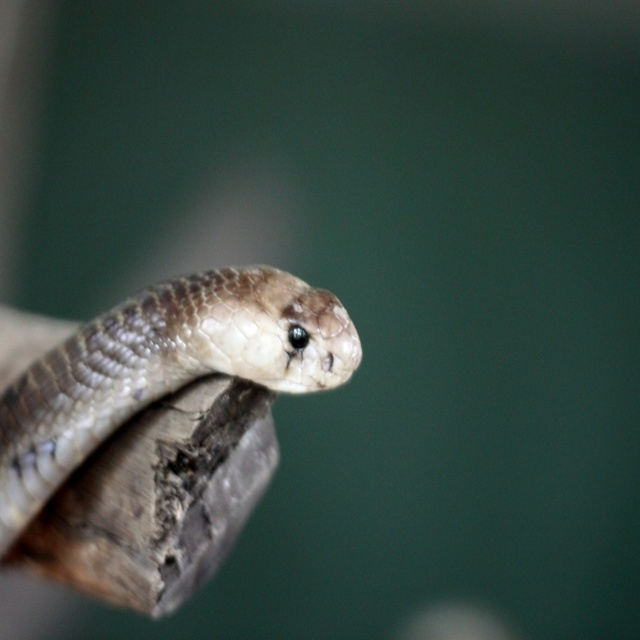Snake: (0, 244, 396, 625)
